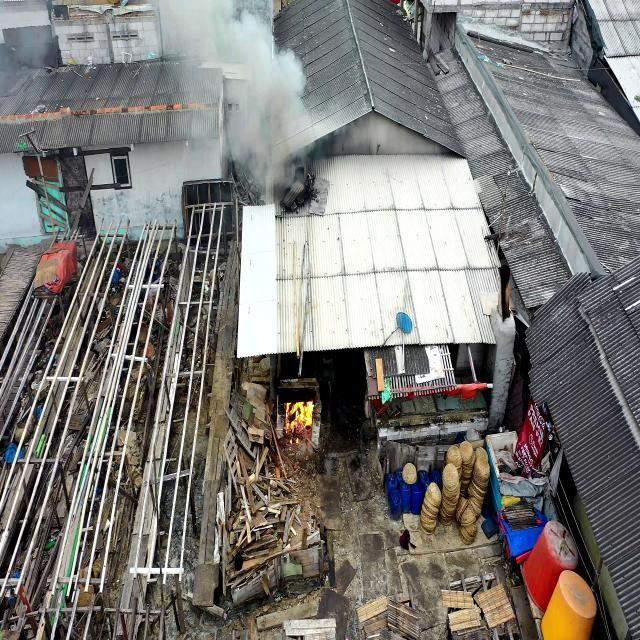Fire: (286, 398, 316, 436)
Smoke: (137, 0, 321, 213)
